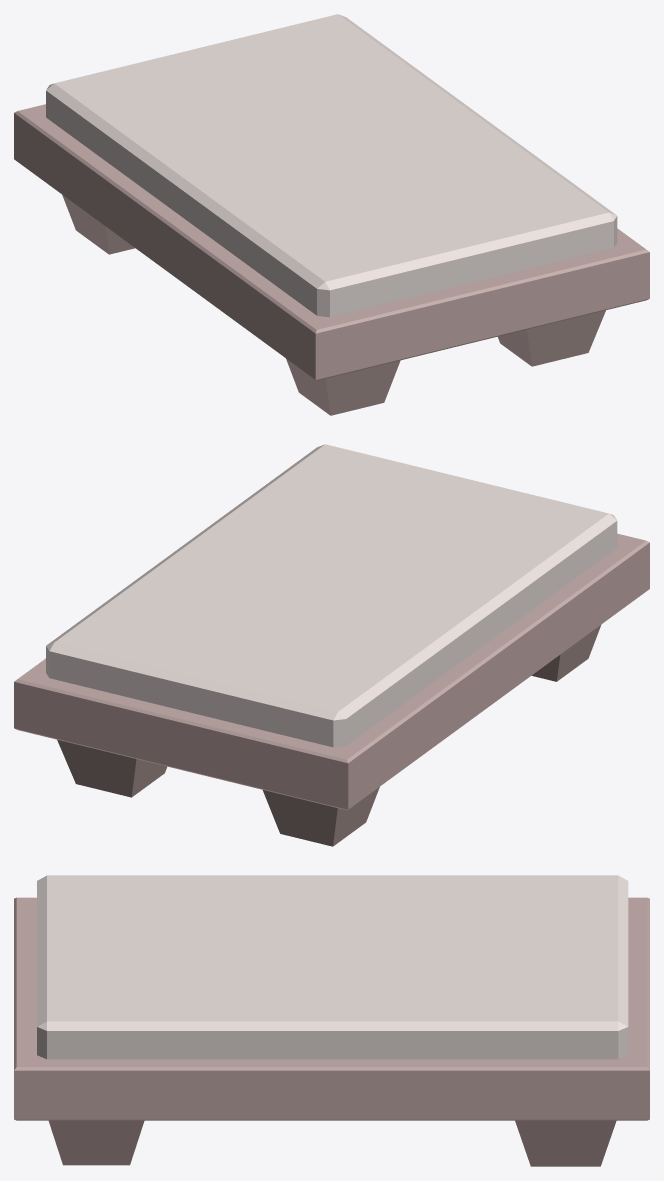
Rendered from BedBase.fbx.
3 renders of one model, top to bottom at view 1: azimuth 30°, elevation 25°; view 2: azimuth 150°, elevation 25°; view 3: azimuth 270°, elevation 25°, orthographic. The views are drawn at different scales.
Parts seen in each view (by area): view 1: Bedframe1; view 2: Bedframe1; view 3: Bedframe1.
Boxes of the visible parts, box(x1,y1,x2,y2) form: Bedframe1: box(14, 14, 649, 415); Bedframe1: box(14, 444, 649, 846); Bedframe1: box(14, 875, 649, 1166).
Size of the model in its own units: 2.74 by 1.13 by 4.29.
